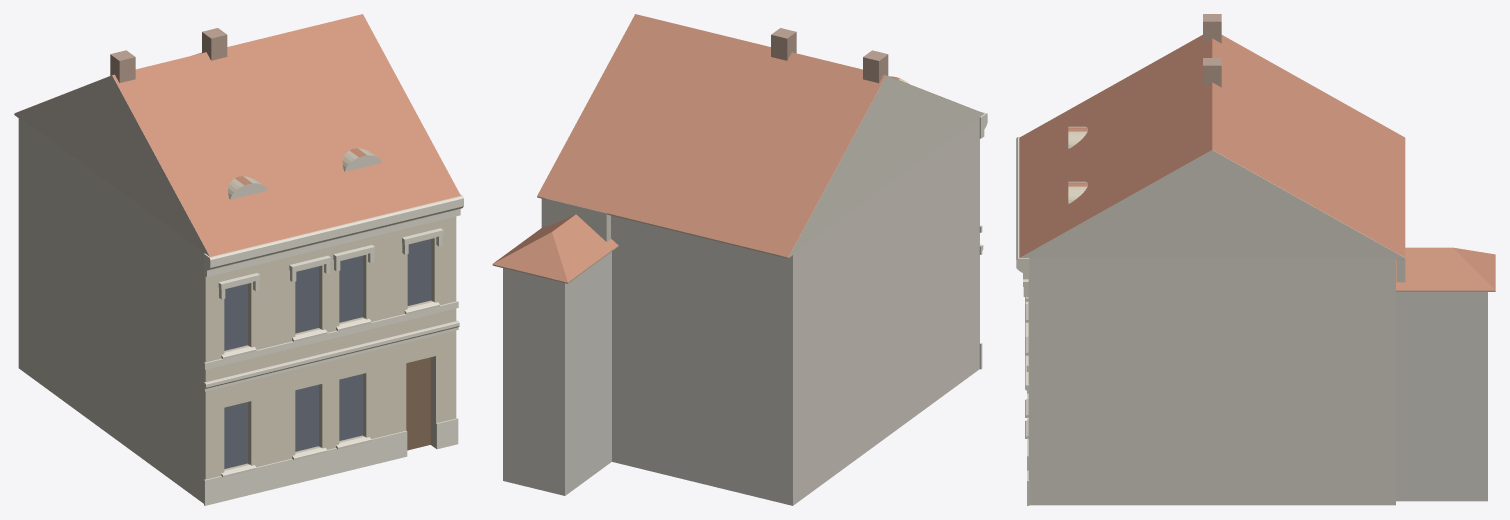
3 views of the same model, side by side, from view 1: azimuth 30°, elevation 25°; view 2: azimuth 150°, elevation 25°; view 3: azimuth 270°, elevation 25° (orthographic).
Parts seen in each view (by area): view 1: CP_851_Masonry, CP_851_Roof, CP_851_Gable_L_gable, CP_851_Cornice_plinth_0, CP_851_Cornice_main_0, CP_851_Cornice_string_0, CP_851_Cornice_sillband_0, CP_851_Chimney_0, CP_851_Chimney_1, CP_851_Cornice_plinth_1, CP_851_Dormer_E2, CP_851_Dormer_E1; view 2: CP_851_Masonry, CP_851_Roof, CP_851_Rear_Annex, CP_851_Gable_L_gable, CP_851_WingRoof_Rear_Annex, CP_851_AtticClosure_1, CP_851_Chimney_0, CP_851_Chimney_1; view 3: CP_851_Masonry, CP_851_Roof, CP_851_Gable_R_gable, CP_851_Rear_Annex, CP_851_WingRoof_Rear_Annex, CP_851_Cornice_main_0.
Boxes of the visible parts, x1,y1,x2,y2 form: CP_851_Masonry: [18, 117, 456, 503]; CP_851_Roof: [16, 14, 460, 256]; CP_851_Gable_L_gable: [14, 75, 209, 256]; CP_851_Cornice_plinth_0: [204, 430, 407, 505]; CP_851_Cornice_main_0: [204, 194, 463, 276]; CP_851_Cornice_string_0: [204, 320, 459, 391]; CP_851_Cornice_sillband_0: [204, 301, 458, 369]; CP_851_Chimney_0: [110, 50, 135, 82]; CP_851_Chimney_1: [202, 28, 227, 60]; CP_851_Cornice_plinth_1: [435, 418, 458, 449]; CP_851_Dormer_E2: [342, 148, 381, 171]; CP_851_Dormer_E1: [228, 176, 267, 199]; CP_851_Masonry: [541, 118, 979, 505]; CP_851_Roof: [537, 14, 983, 257]; CP_851_Rear_Annex: [503, 251, 611, 495]; CP_851_Gable_L_gable: [780, 75, 984, 257]; CP_851_WingRoof_Rear_Annex: [492, 214, 618, 282]; CP_851_AtticClosure_1: [545, 198, 610, 241]; CP_851_Chimney_0: [863, 50, 888, 83]; CP_851_Chimney_1: [771, 28, 796, 60]; CP_851_Masonry: [1028, 258, 1395, 505]; CP_851_Roof: [1019, 35, 1405, 257]; CP_851_Gable_R_gable: [1020, 150, 1404, 258]; CP_851_Rear_Annex: [1396, 292, 1487, 501]; CP_851_WingRoof_Rear_Annex: [1396, 247, 1495, 290]; CP_851_Cornice_main_0: [1016, 137, 1029, 279].
Bounding box in the file's own units: 9.4 × 13.41 × 15.65.
